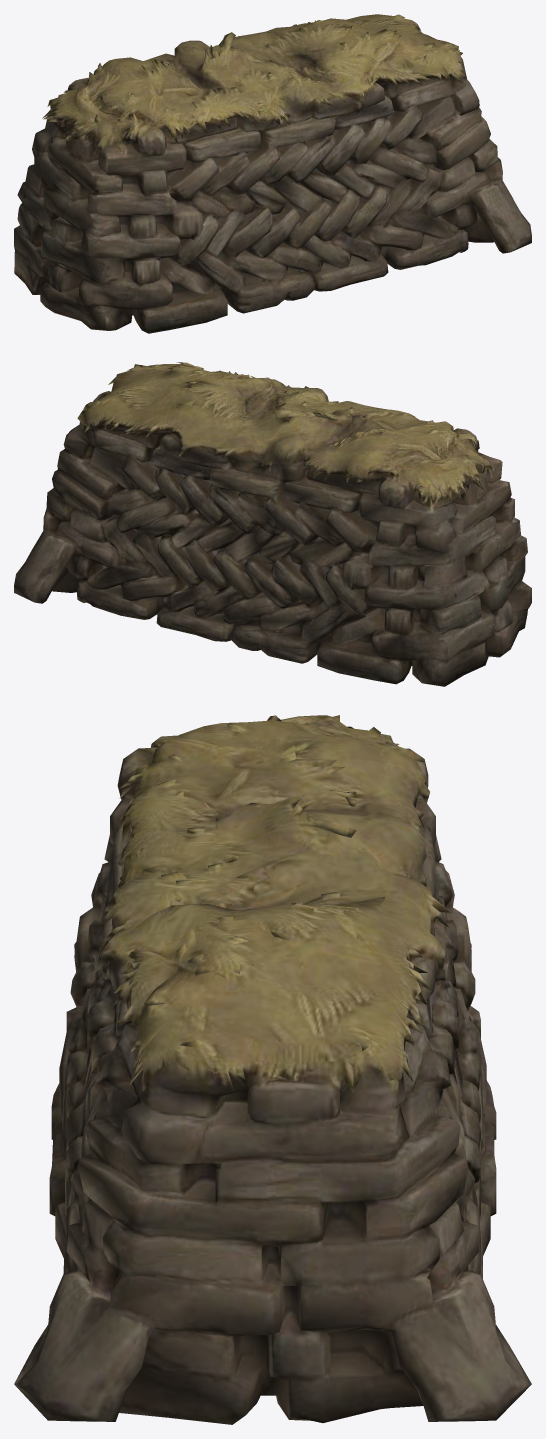
Rendered from sc_peatstack.glb.
3 renders of one model, top to bottom at view 1: azimuth 30°, elevation 25°; view 2: azimuth 150°, elevation 25°; view 3: azimuth 270°, elevation 25°, orthographic. The views are drawn at different scales.
Parts seen in each view (by area): view 1: sc_peatstack; view 2: sc_peatstack; view 3: sc_peatstack.
Part boxes in pixels (x1,y1,x2,y2): sc_peatstack: [14, 14, 531, 333]; sc_peatstack: [14, 362, 531, 686]; sc_peatstack: [14, 715, 531, 1424].
Size of the model in its own units: 1.7 by 0.7818 by 0.9149.
Materials: 1 (1 with a texture image).
